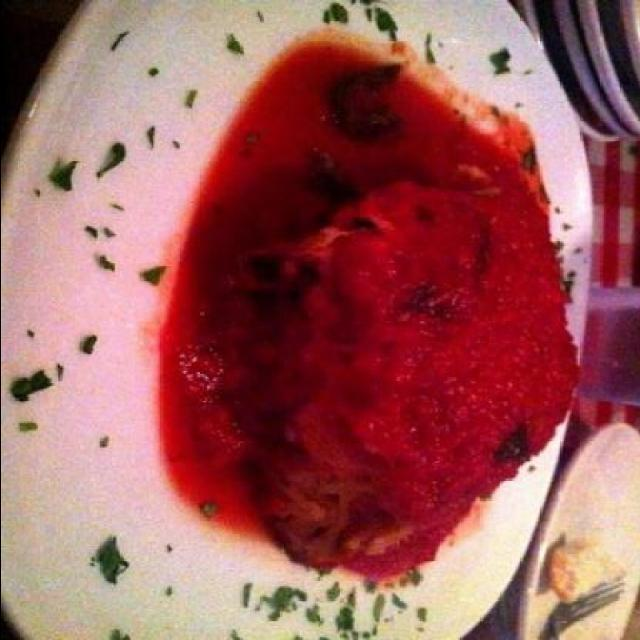Lasagna: (199, 121, 595, 610)
